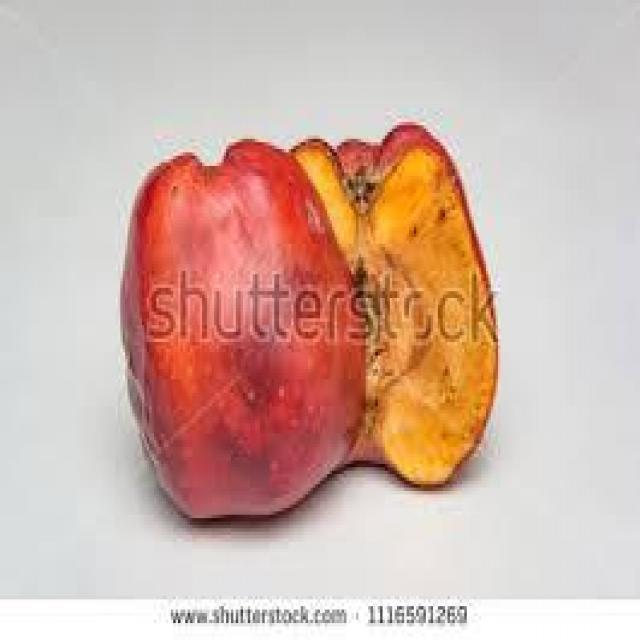Rotten: (93, 130, 373, 534)
